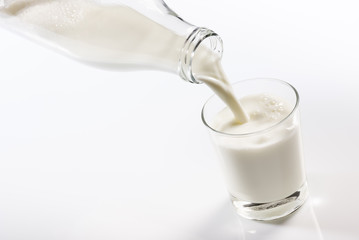glass of milk: (195, 88, 308, 224)
